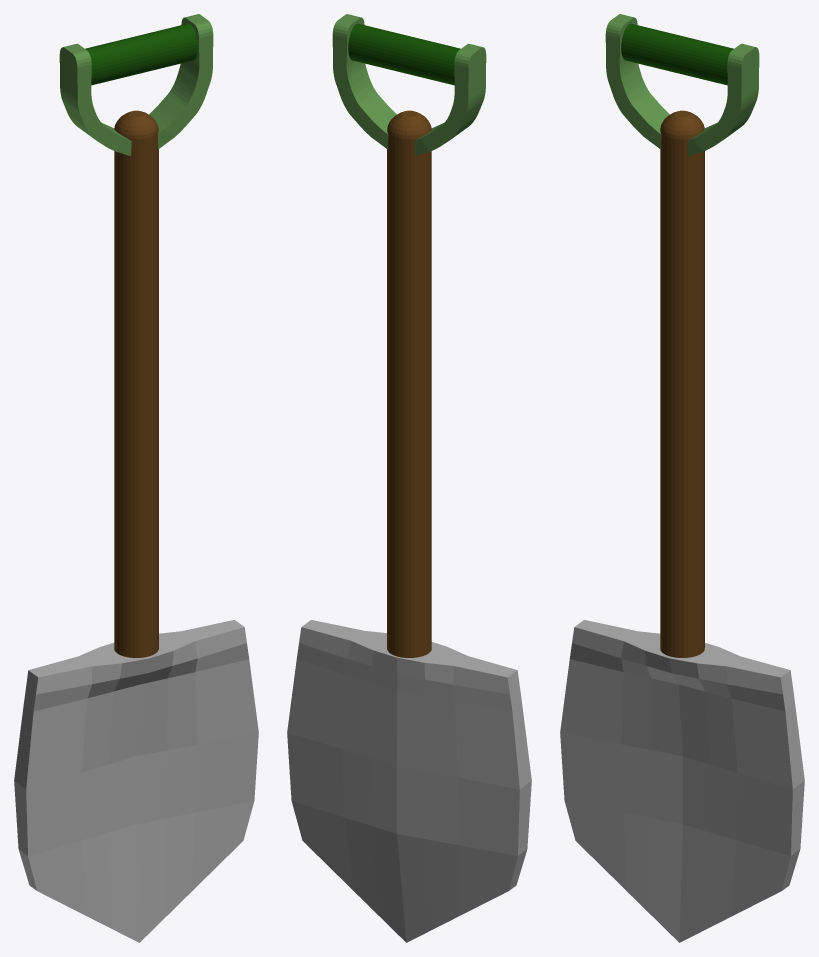
File: Shovel.fbx
3 renders of one model, left to right at view 1: azimuth 30°, elevation 25°; view 2: azimuth 150°, elevation 25°; view 3: azimuth 330°, elevation 25°, orthographic.
Parts seen in each view (by area): view 1: Cube.001, Cylinder, Cylinder.001, Cube, Cube.002; view 2: Cube.001, Cylinder, Cylinder.001, Cube, Cube.002; view 3: Cube.001, Cylinder, Cylinder.001, Cube.002, Cube.
Part boxes in pixels (<box>): Cube.001: <box>14,620,258,942</box>; Cylinder: <box>114,110,158,657</box>; Cylinder.001: <box>85,23,197,85</box>; Cube: <box>149,14,213,149</box>; Cube.002: <box>59,43,131,156</box>; Cube.001: <box>287,620,531,942</box>; Cylinder: <box>387,110,431,657</box>; Cylinder.001: <box>348,23,460,85</box>; Cube: <box>332,14,396,149</box>; Cube.002: <box>414,43,486,156</box>; Cube.001: <box>560,620,804,942</box>; Cylinder: <box>660,110,704,657</box>; Cylinder.001: <box>621,23,733,85</box>; Cube.002: <box>605,14,669,149</box>; Cube: <box>687,43,759,156</box>.
Size of the model in its own units: 225 by 839 by 43.08.
